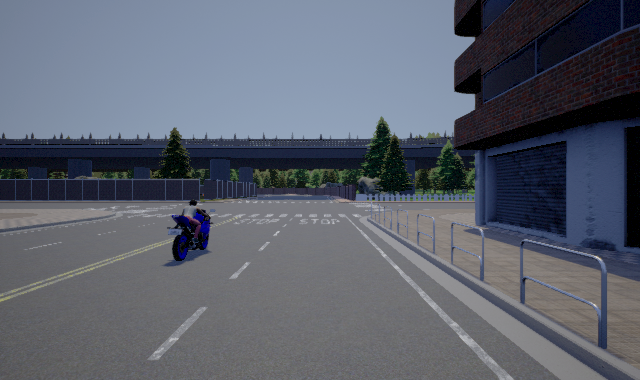motobike: (167, 198, 217, 261)
